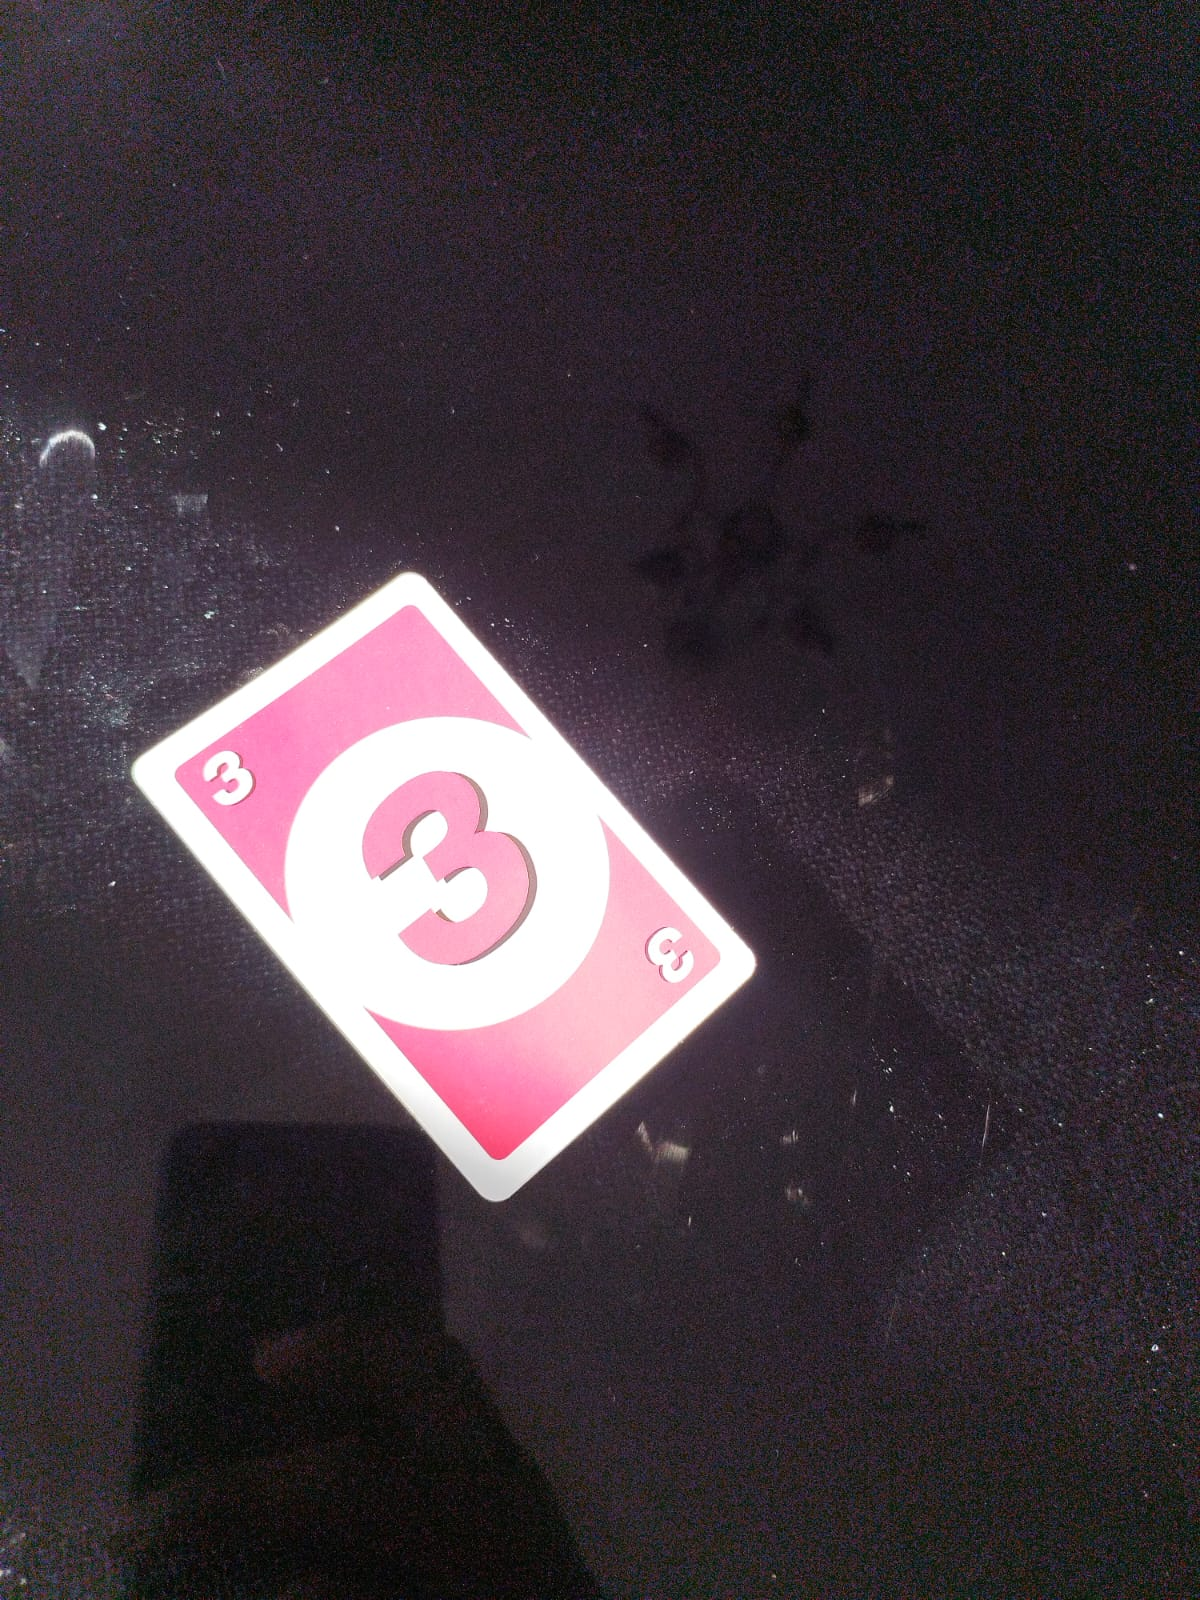9_red: (347, 757, 547, 975), (198, 750, 270, 810), (635, 923, 702, 984)
